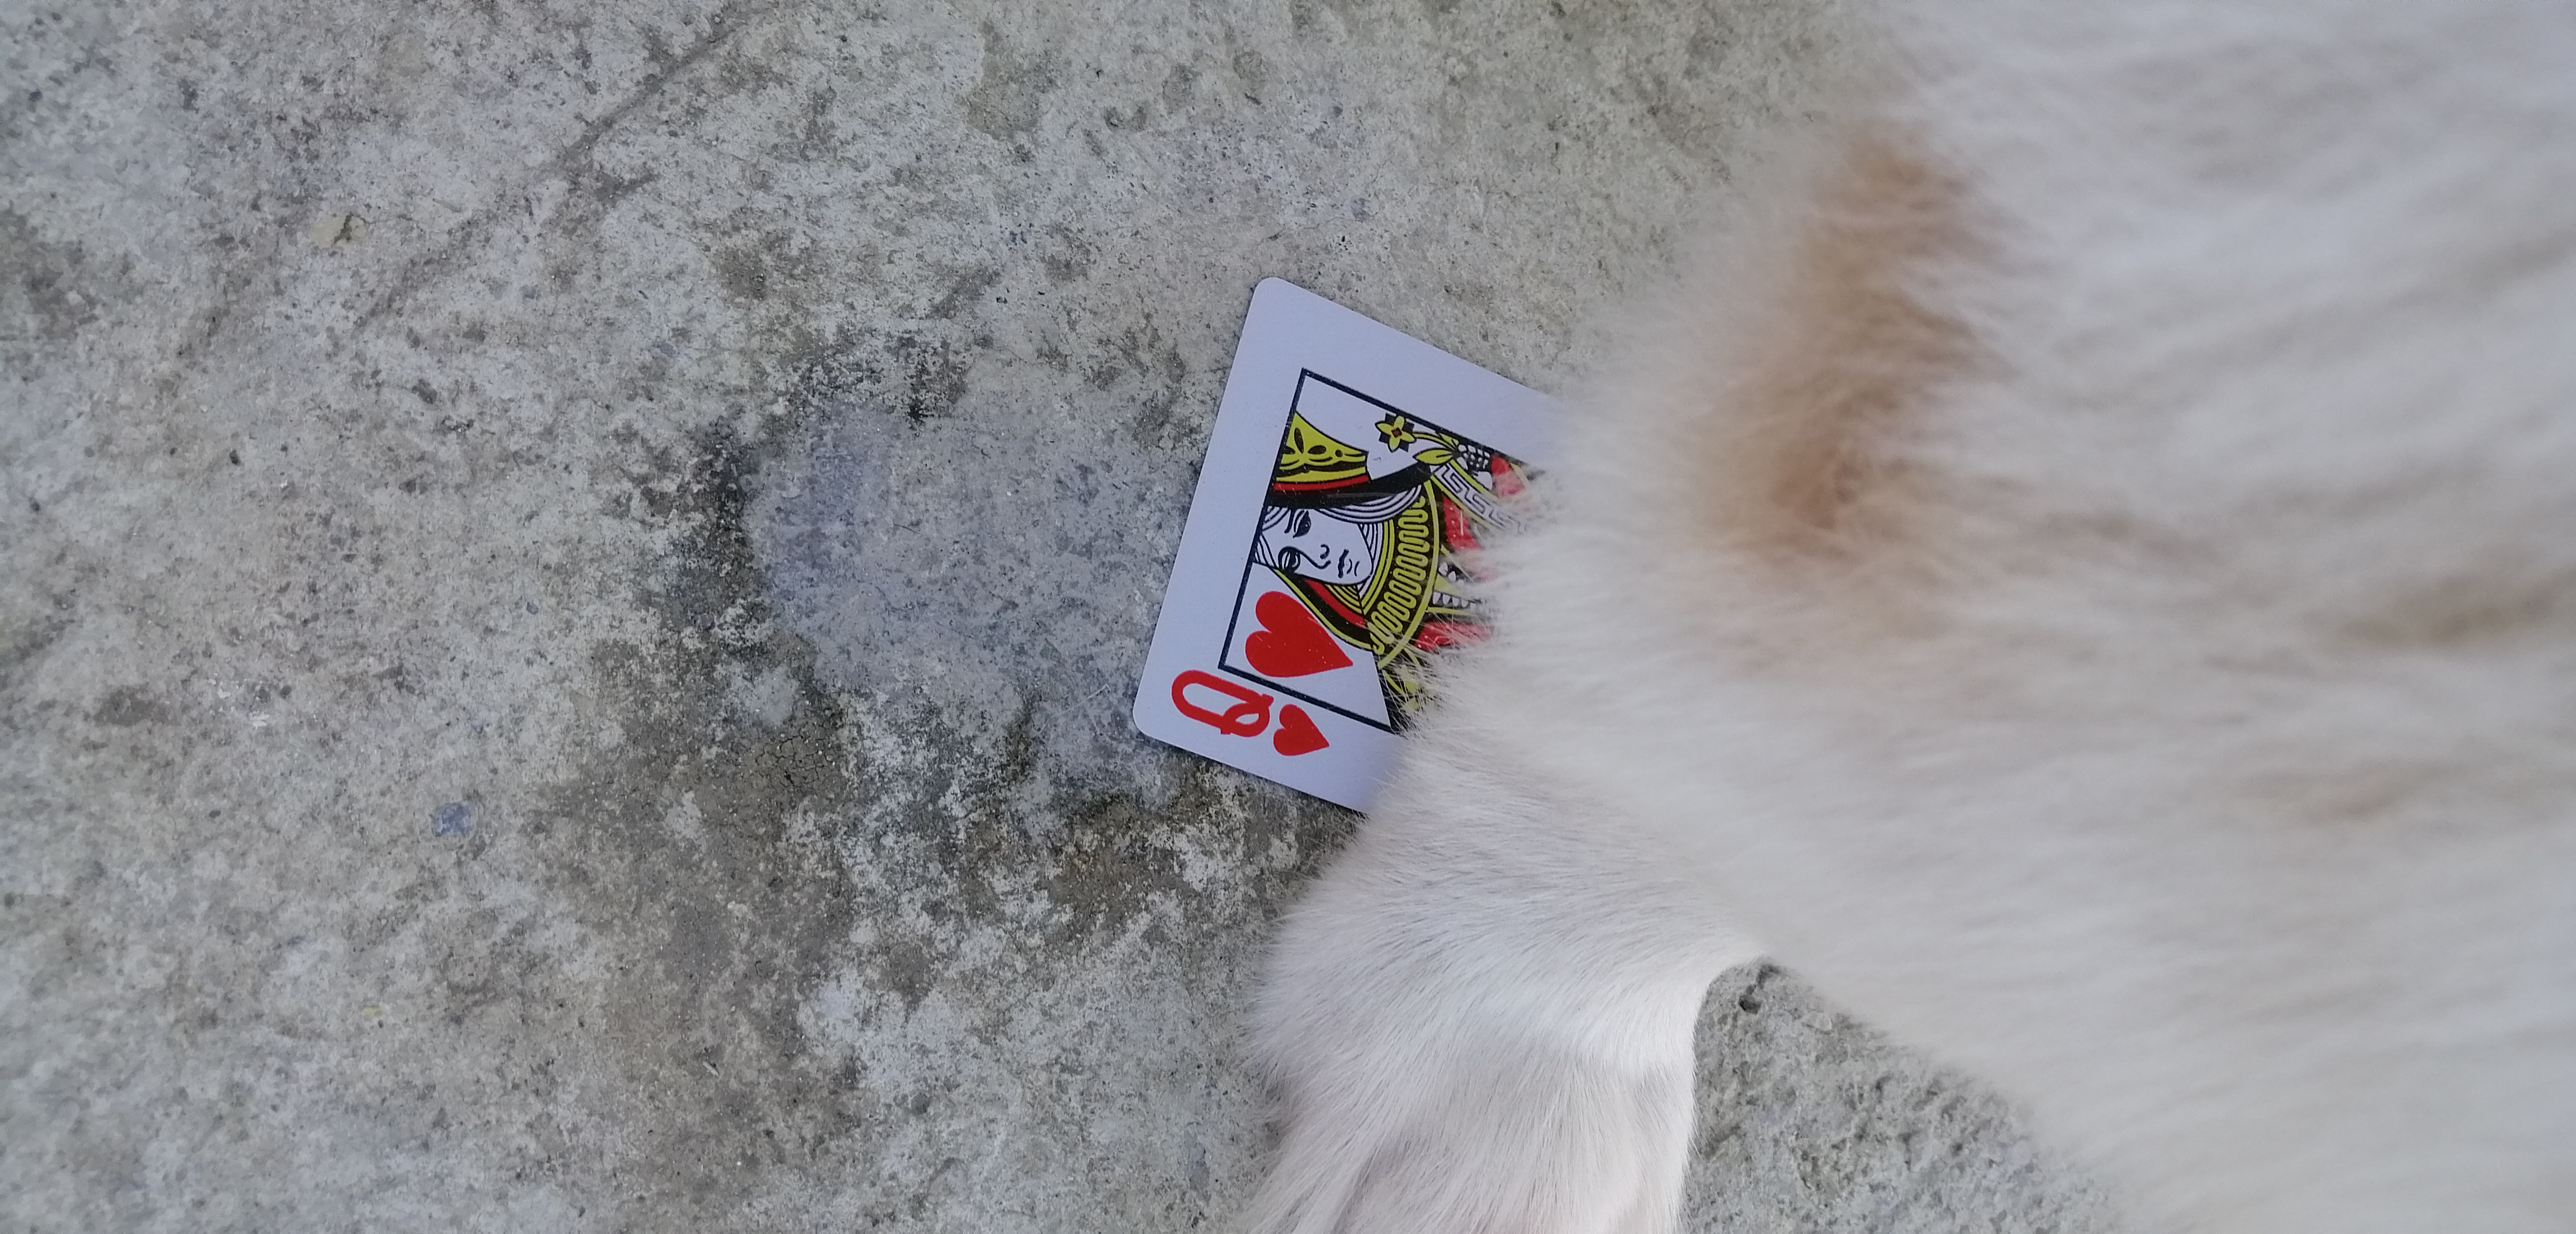queen: (1102, 248, 1656, 833)
